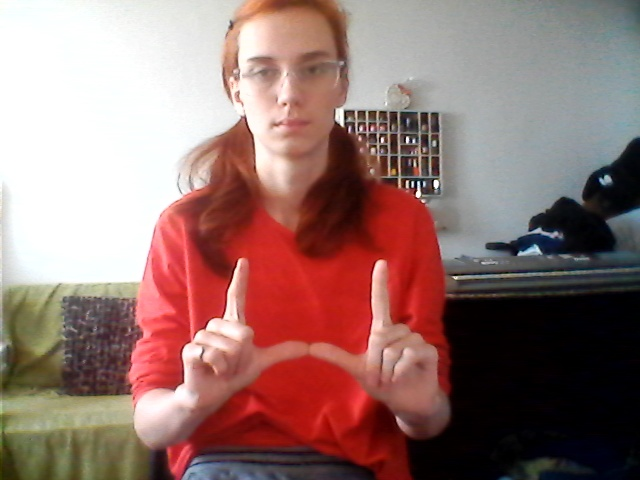u: (166, 249, 455, 420)
